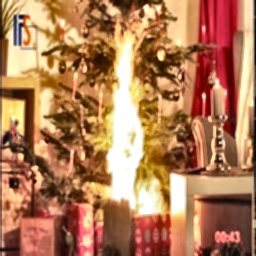fire: (105, 28, 162, 208)
